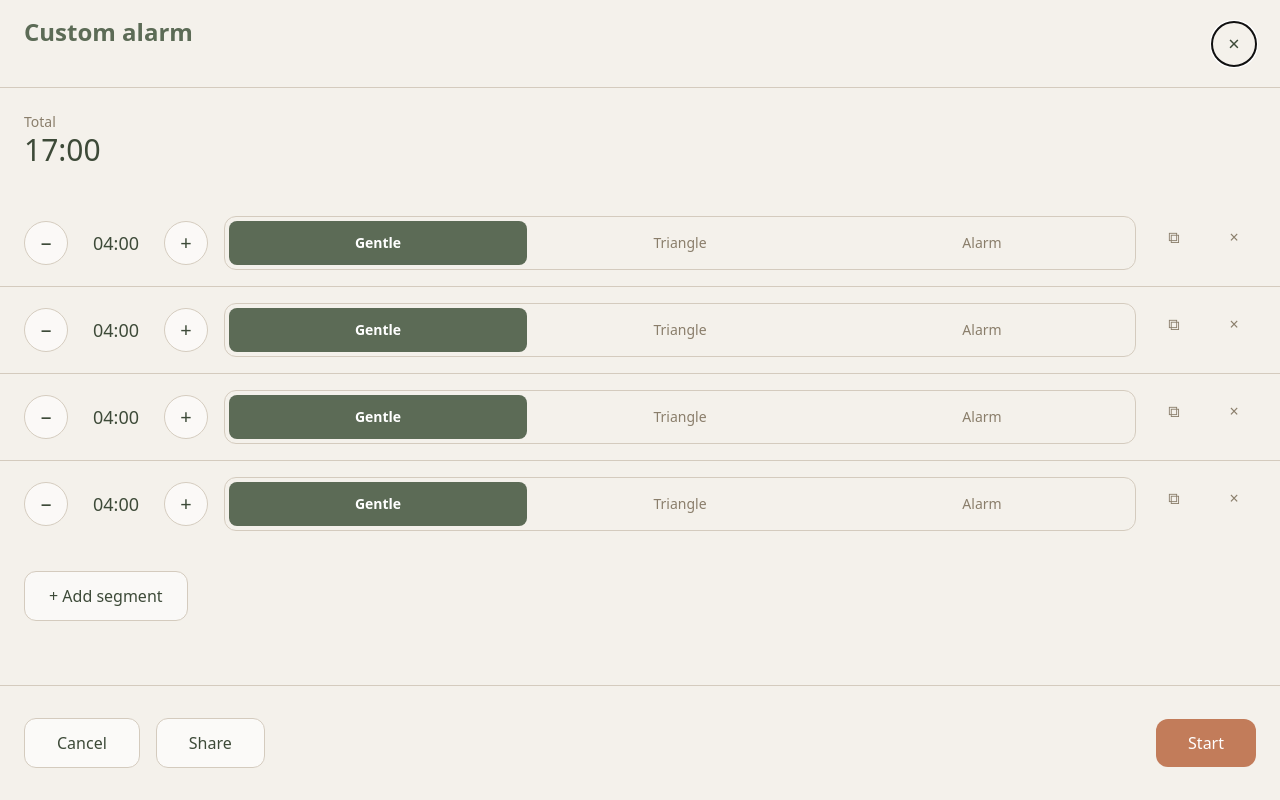
Test: Composer — live total (COMP-06) › updates Total when a segment duration changes (live derivation)
The width and height of the screenshot is (1280, 800).
Click the button named "Increase duration".
click(186, 243)  # box left=164, top=221, right=208, bottom=265
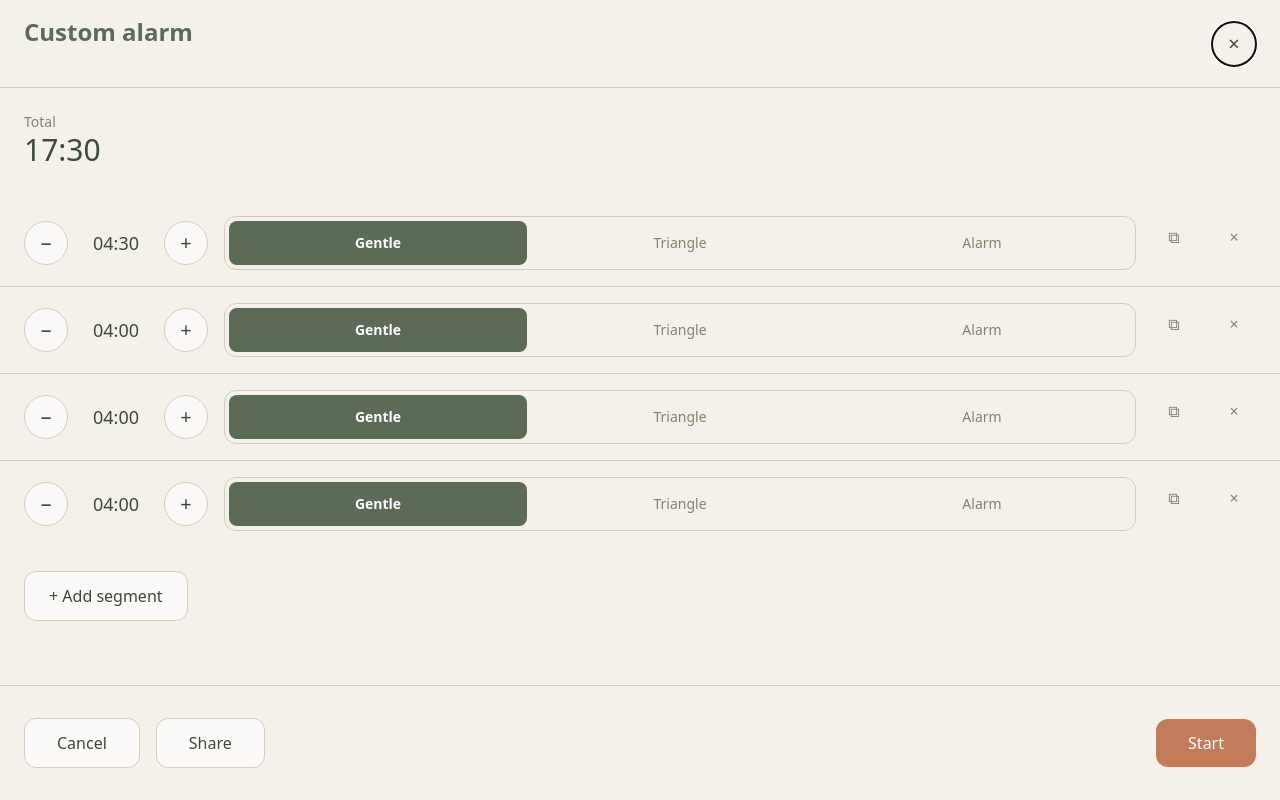
Expected: the text "17:30" is shown, left=24, top=129, right=101, bottom=170
